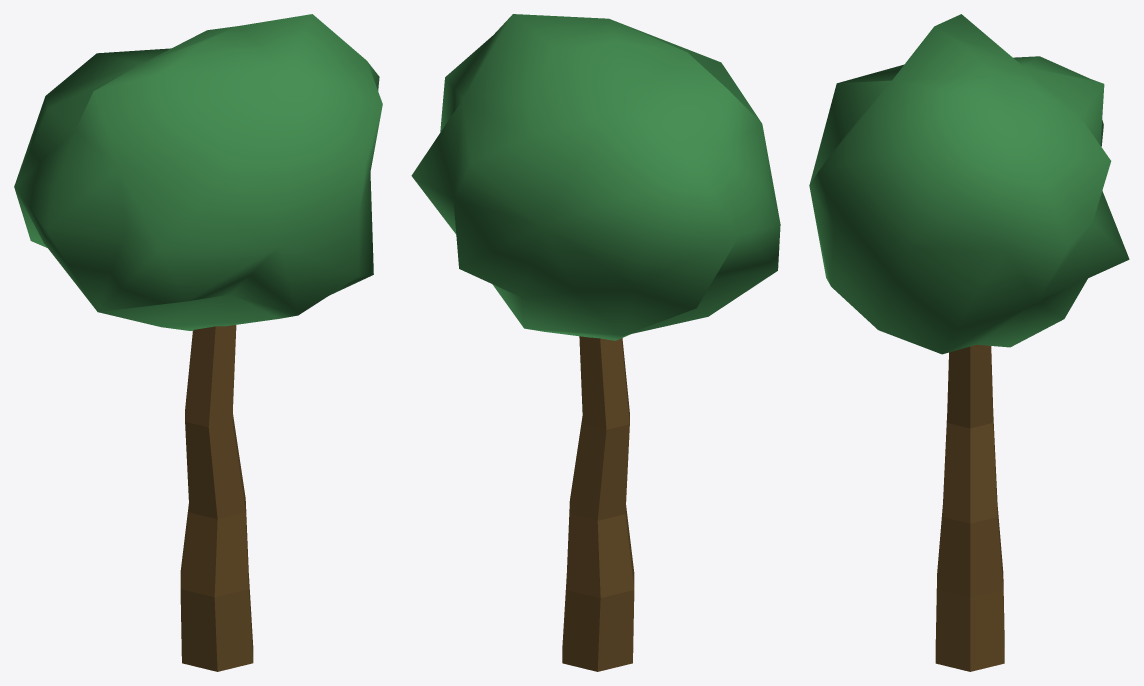
Rendered from tree(2).fbx.
3 views of the same model, side by side, from view 1: azimuth 30°, elevation 25°; view 2: azimuth 150°, elevation 25°; view 3: azimuth 270°, elevation 25° (orthographic). The views are drawn at different scales.
Visible parts, largest first — view 1: pPlatonic2; view 2: pPlatonic2; view 3: pPlatonic2.
Boxes of the visible parts, x1,y1,x2,y2 form: pPlatonic2: (14, 14, 382, 671); pPlatonic2: (411, 14, 780, 671); pPlatonic2: (809, 14, 1129, 671).
Bounding box in the file's own units: 9.44 × 16.69 × 8.02.
